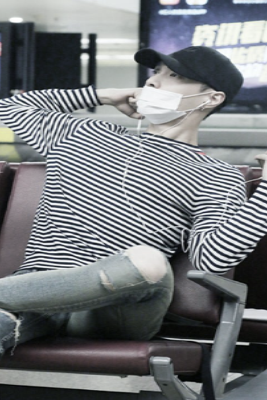mask_weared_incorrect: (136, 67, 204, 121)
